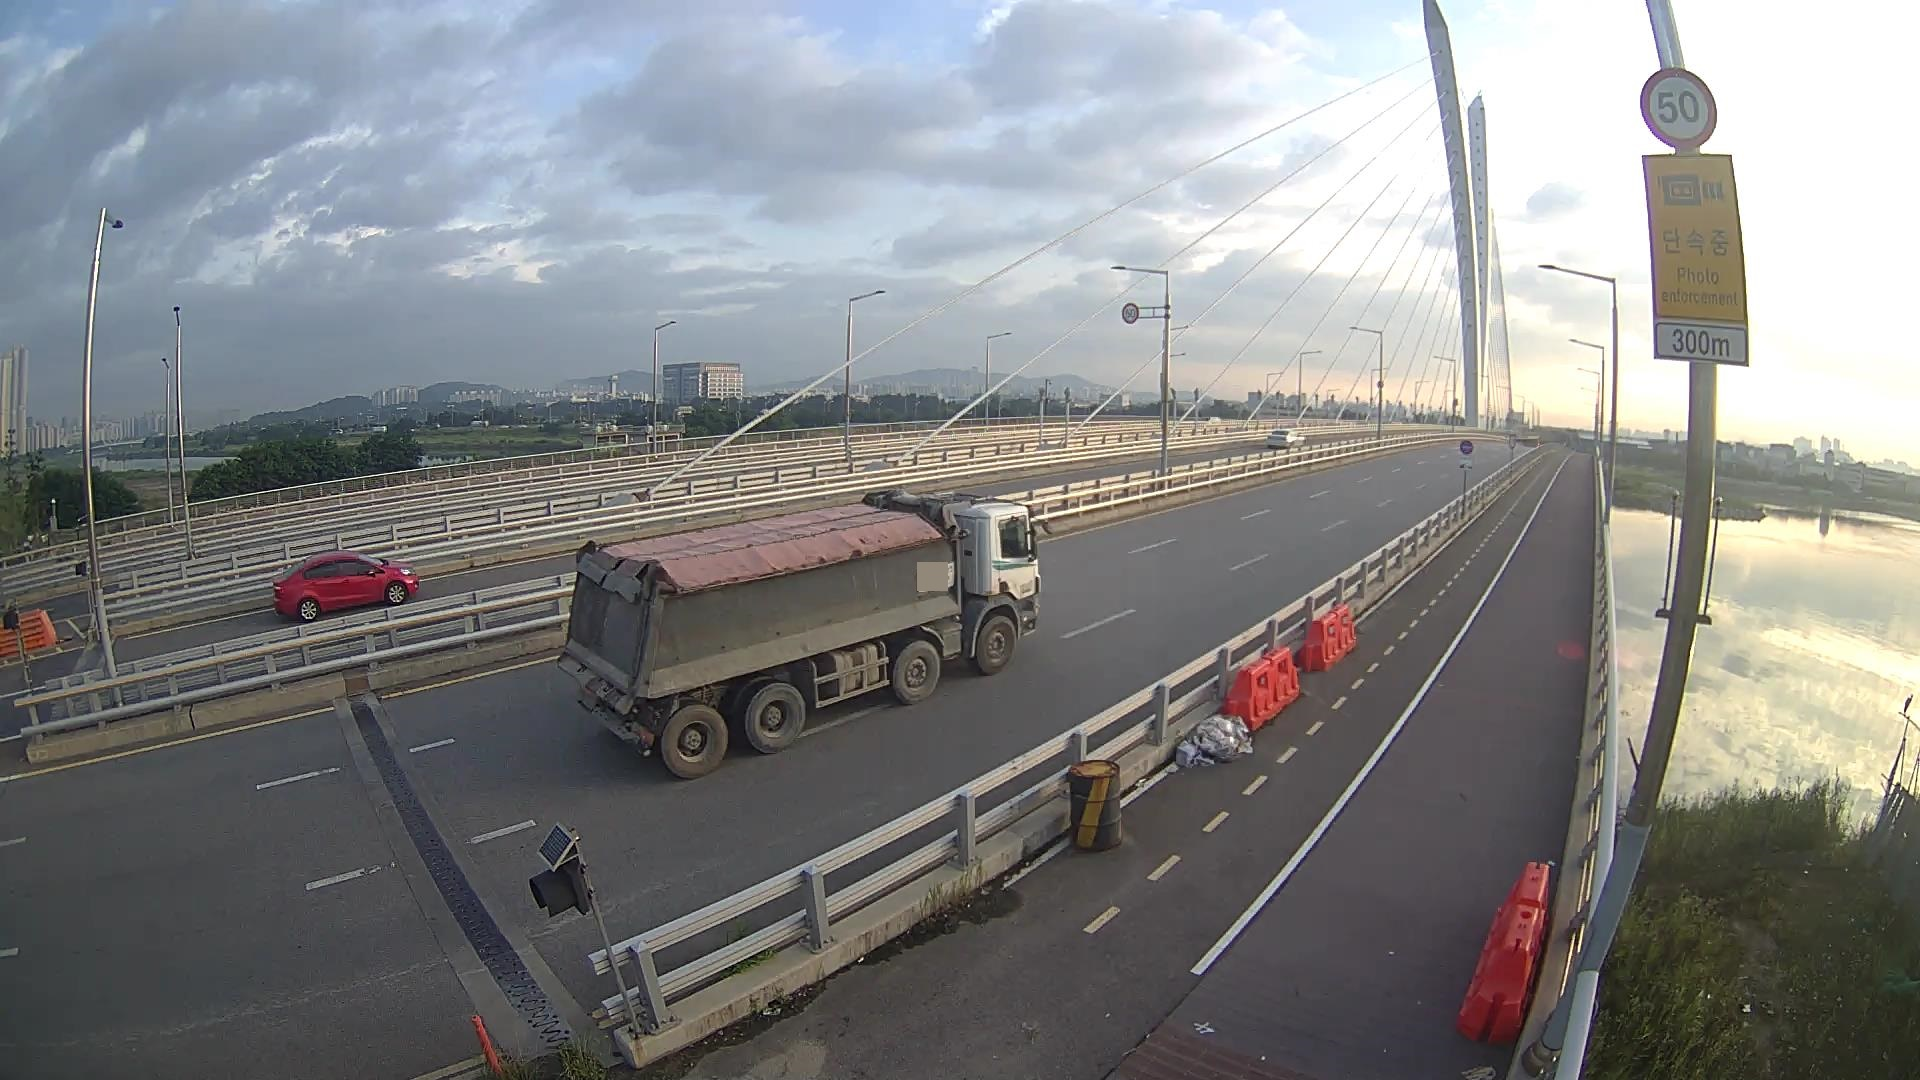정상차량: (558, 489, 1052, 778)
